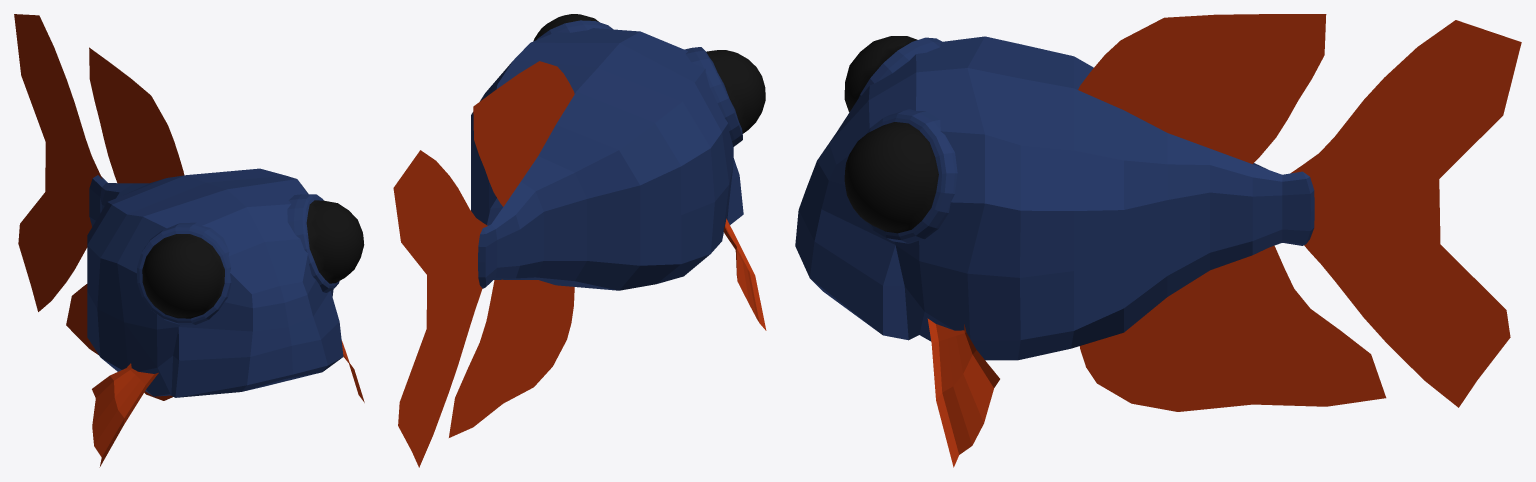
File: Betta.glb
The picture shows the model from 3 angles, left to right: view 1: azimuth 30°, elevation 25°; view 2: azimuth 150°, elevation 25°; view 3: azimuth 270°, elevation 25°; orthographic projection. The views are drawn at different scales.
Visible parts, largest first — view 1: Betta; view 2: Betta; view 3: Betta.
Part boxes in pixels (<box>): Betta: <box>14,14,364,467</box>; Betta: <box>393,14,766,467</box>; Betta: <box>795,14,1521,467</box>.
Size of the model in its own units: 0.338 by 0.372 by 0.6153.
